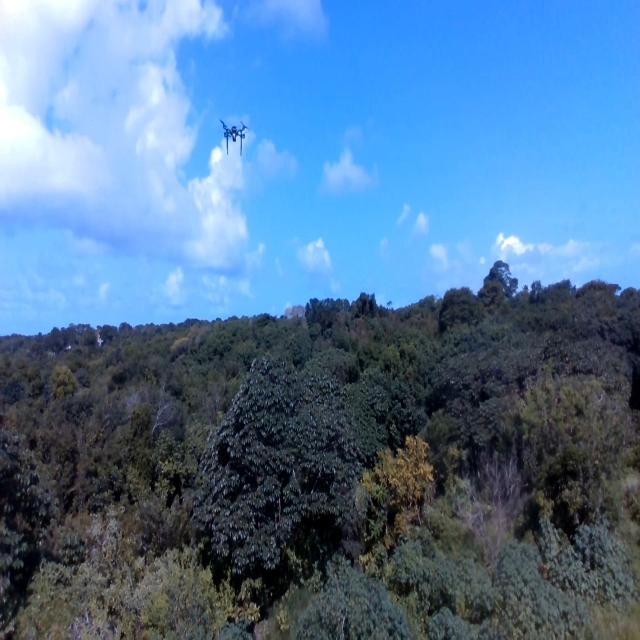-uav-: (213, 96, 254, 180)
